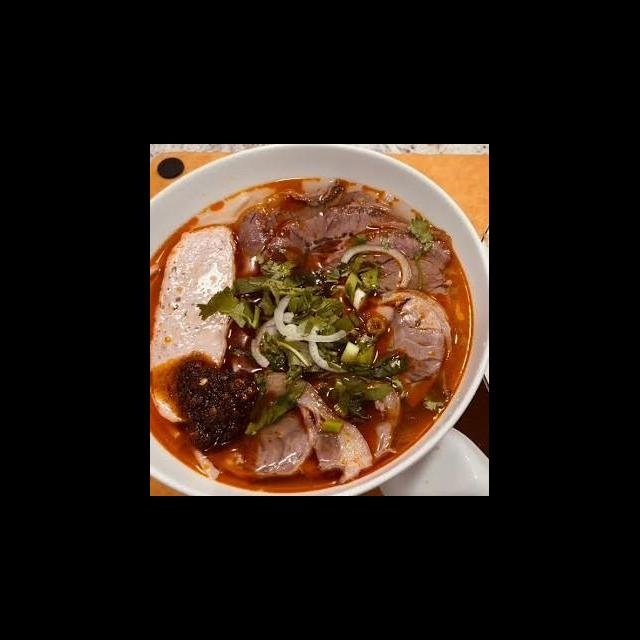thit bo: (226, 175, 412, 262), (252, 366, 378, 488), (257, 203, 418, 286), (350, 286, 454, 412), (306, 227, 456, 306), (204, 396, 324, 483), (306, 372, 404, 464)
